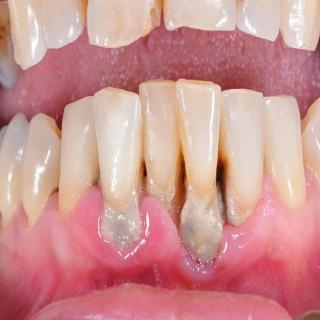Gum Swelling: (0, 162, 320, 280)
calculus: (183, 183, 224, 263), (96, 188, 144, 252), (223, 160, 259, 238), (150, 173, 181, 240), (42, 170, 66, 221), (86, 162, 112, 206)
maligned: (175, 72, 221, 226), (95, 89, 142, 228), (139, 74, 181, 215)
